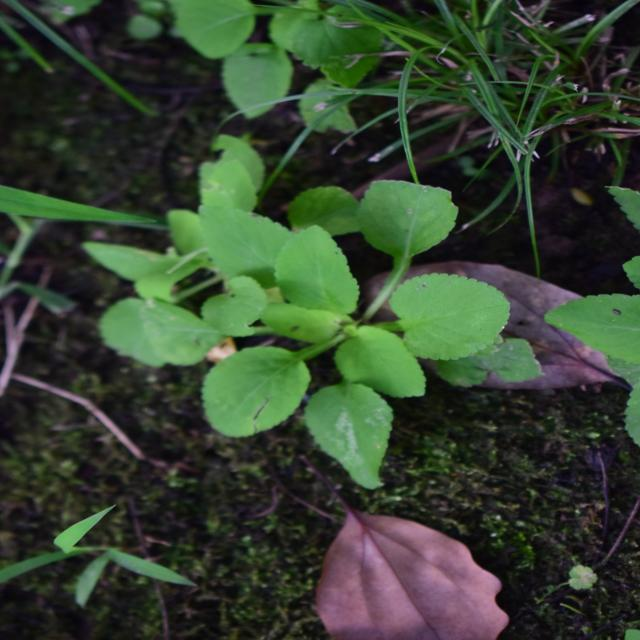Viola: (173, 185, 454, 499)
